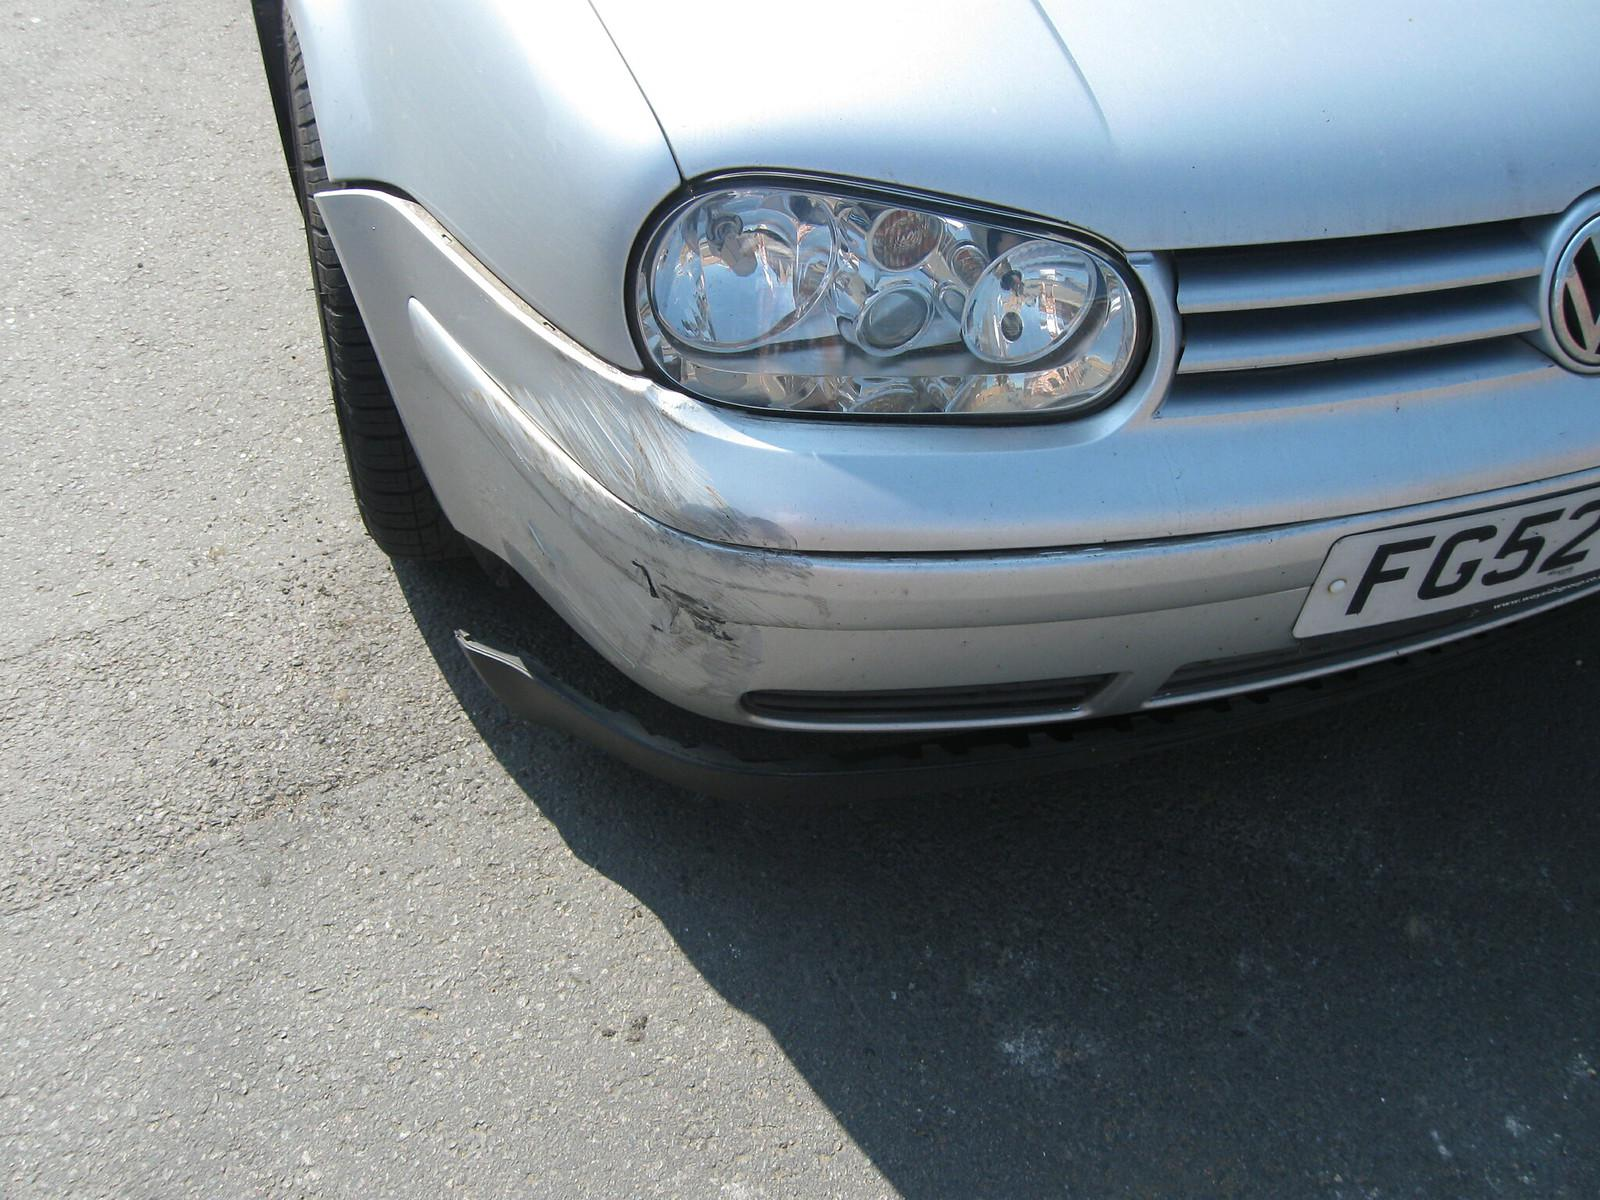front-bumper-dent: (465, 387, 1194, 730)
